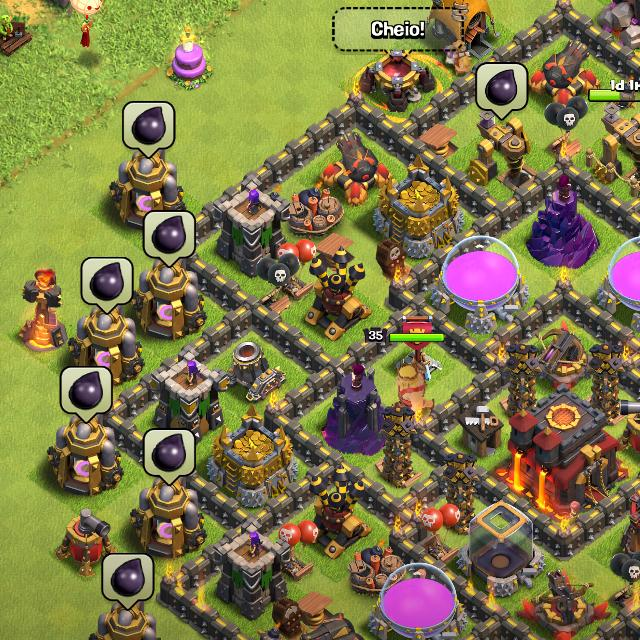ElixirNegro: (103, 552, 156, 610), (121, 101, 175, 157), (144, 210, 197, 267), (60, 366, 111, 424), (81, 259, 131, 317), (477, 61, 525, 119), (147, 428, 194, 485)
